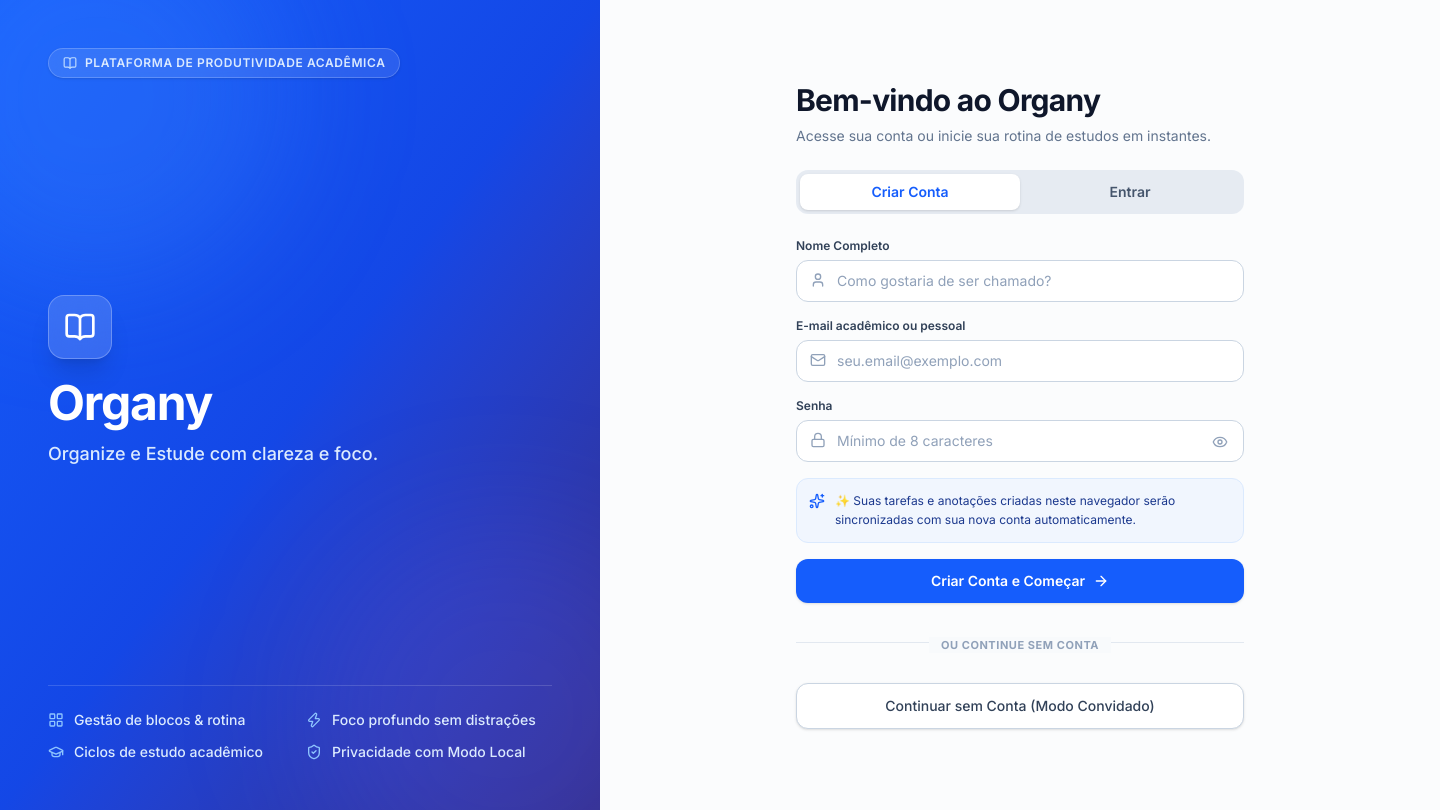
Test: AuthView Component › calcula e exibe a força da senha na aba Criar Conta
Type "123" into the password field labelled "Senha" at (1020, 440), box top-left (796, 420), bottom-right (1244, 462)
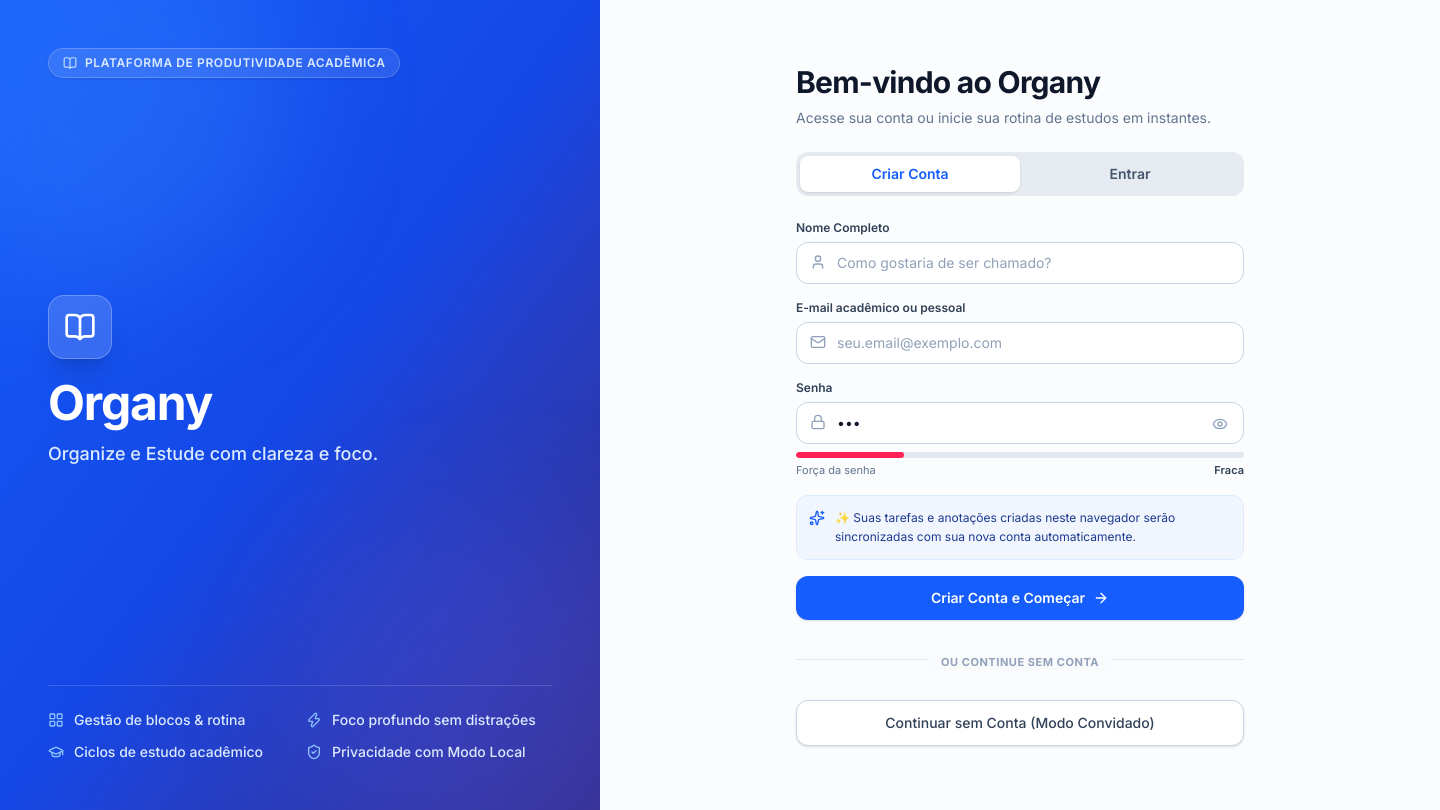
Check: the text "Fraca" is shown, box top-left (1214, 462), bottom-right (1244, 479)
Type "MinhaSenhaForte@2026" into the password field labelled "Senha" at (1020, 423), box top-left (796, 402), bottom-right (1244, 444)
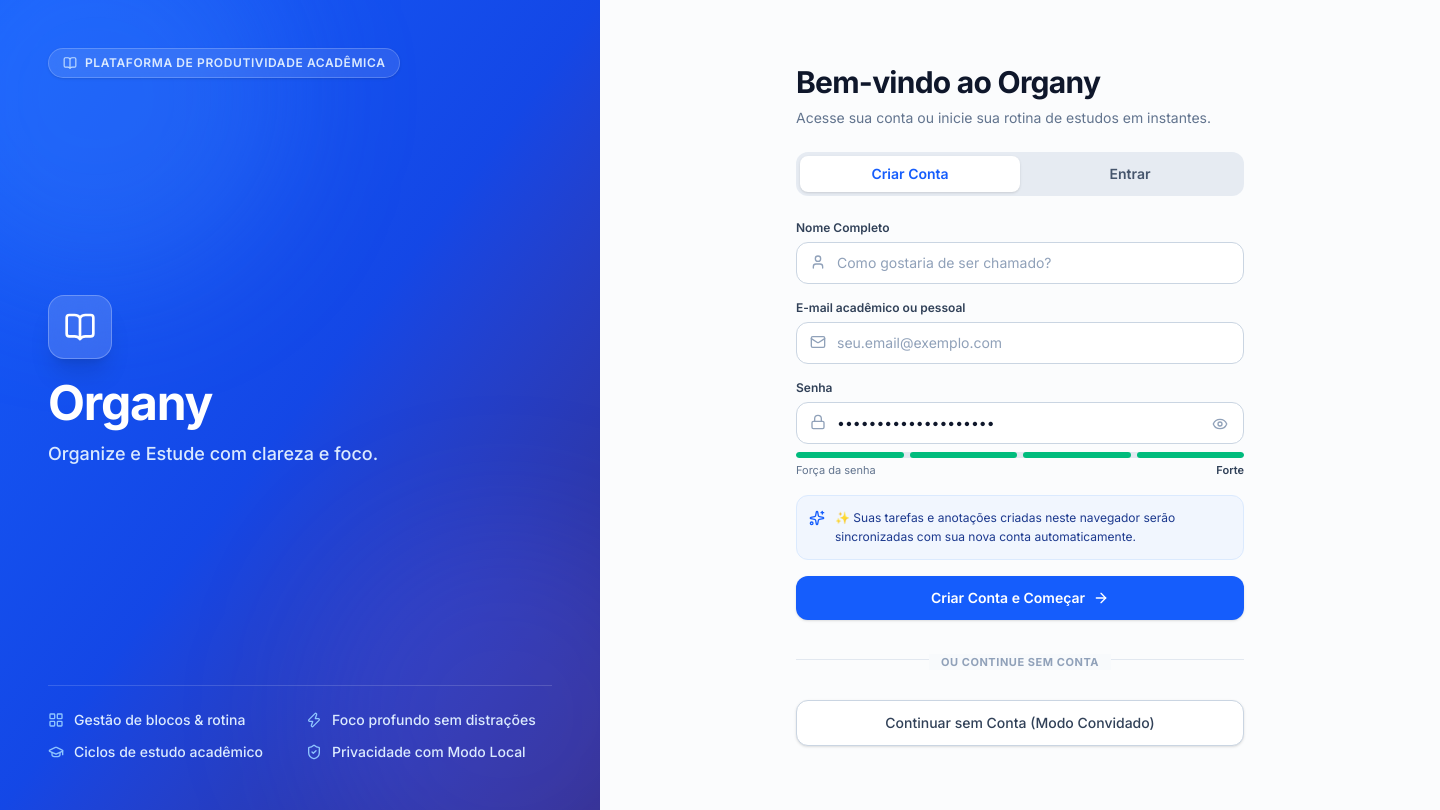
Check: the text "Forte" is shown, box top-left (1216, 462), bottom-right (1244, 479)
